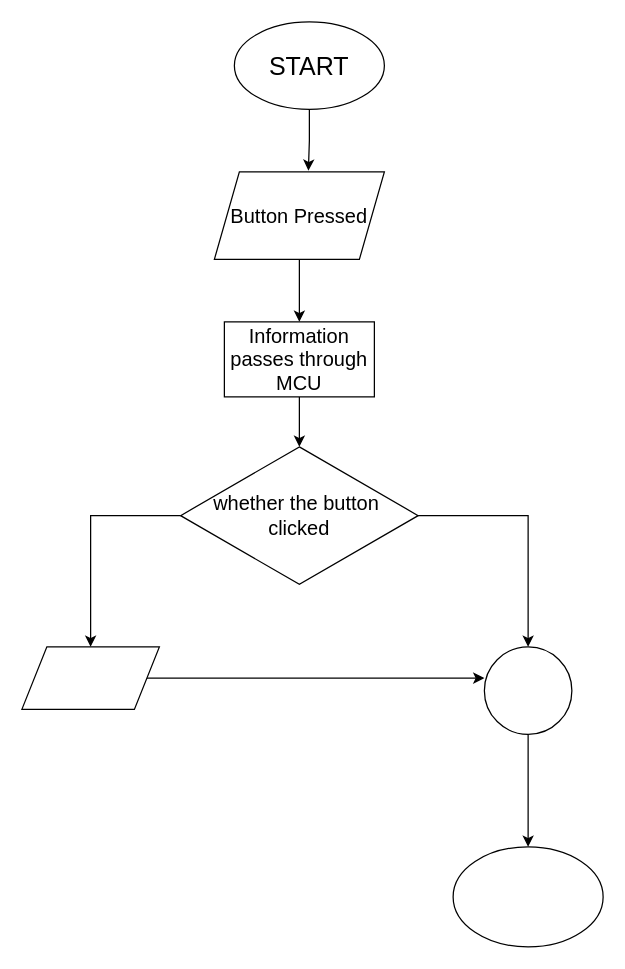
This 625x969 diagram has some shape labels left out. The centre of each missing label's shape, as x and y in pixels:
END: (527,896)
LED: (90,677)
